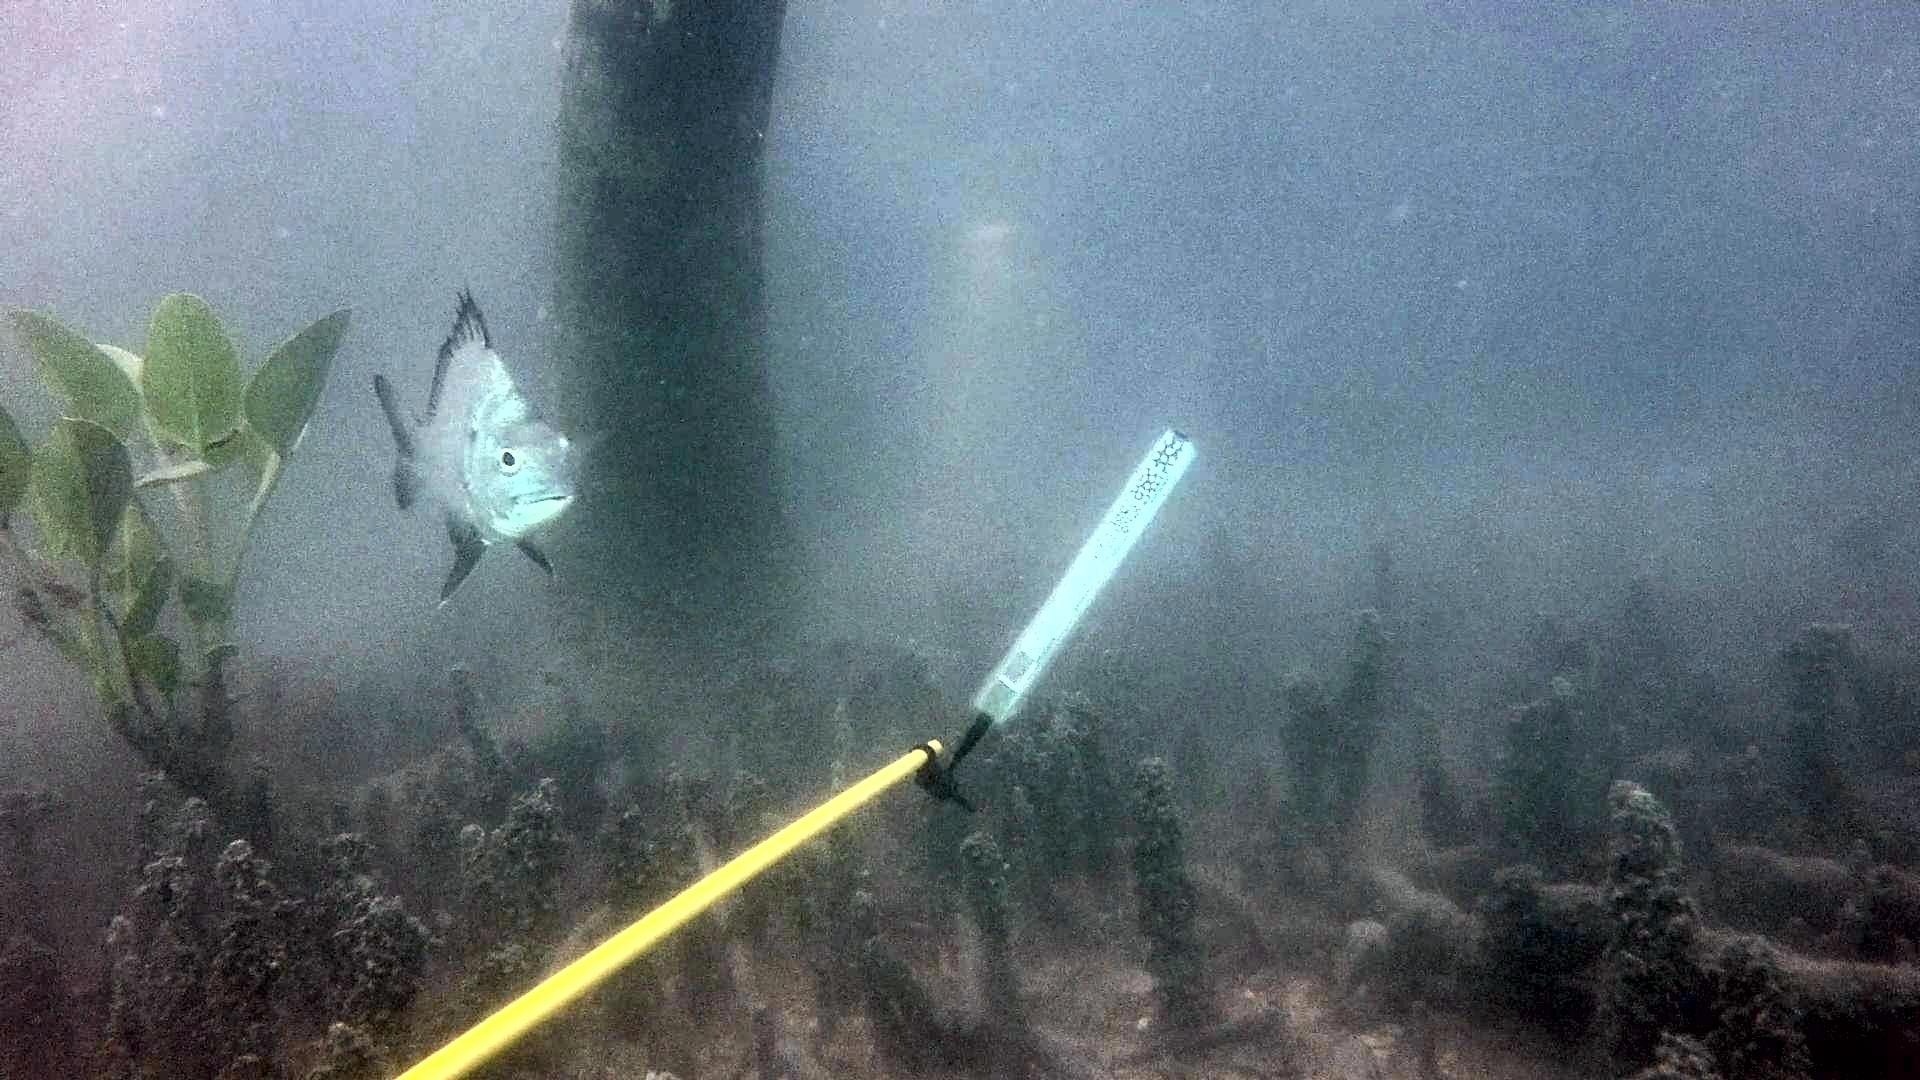acanthopagrus palmaris: (353, 273, 610, 615)
